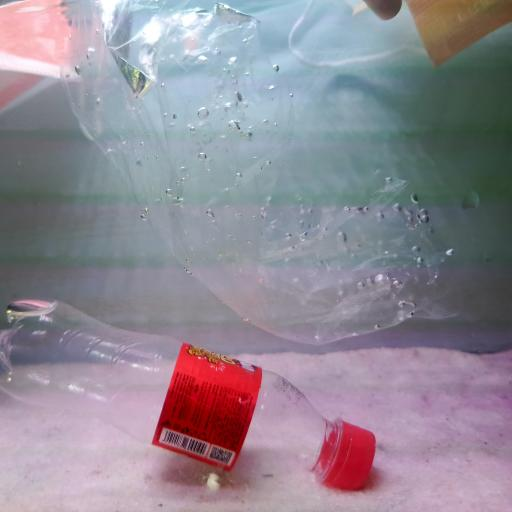bottle_cap: (324, 412, 380, 492)
mask: (277, 4, 512, 70), (2, 2, 104, 140)
plastic_bag: (67, 0, 464, 346)
plastic_bottle: (7, 295, 374, 495)
